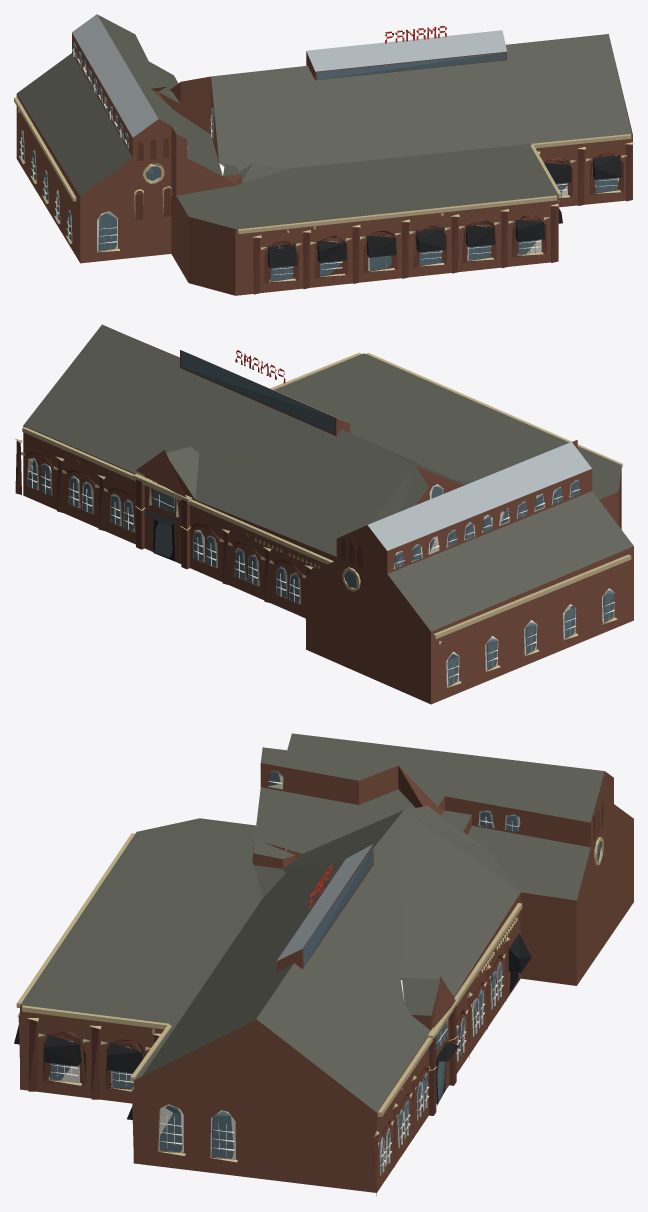
Rendered from club-panama.lod1.glb.
3 renders of one model, top to bottom at view 1: azimuth 30°, elevation 25°; view 2: azimuth 150°, elevation 25°; view 3: azimuth 270°, elevation 25°, orthographic. The views are drawn at different scales.
Visible parts, largest first — view 1: club-panama; view 2: club-panama; view 3: club-panama.
Part boxes in pixels (bbox=[...]): club-panama: bbox=[14, 14, 633, 295]; club-panama: bbox=[14, 324, 633, 704]; club-panama: bbox=[14, 733, 633, 1195].
Bounding box in the file's own units: 51.07 × 13.84 × 40.
